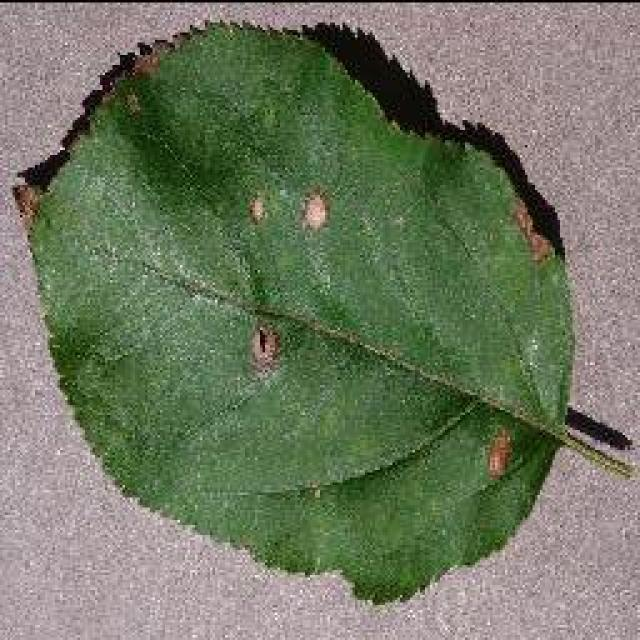apple black rot: (10, 15, 638, 605)
